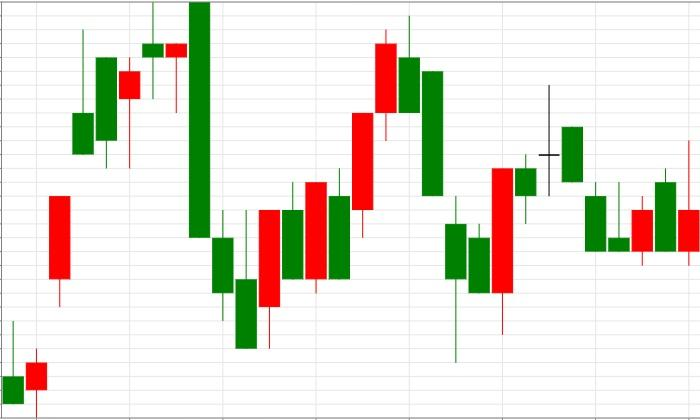bullish_engulfing_rise: (399, 16, 513, 364)
